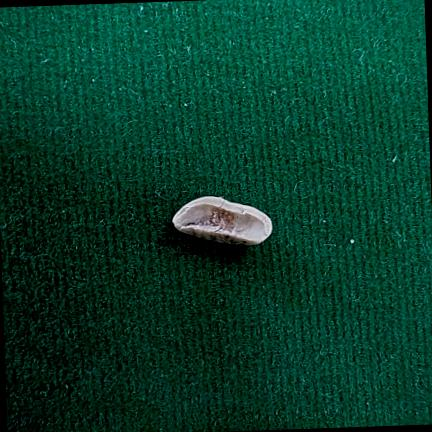shell: (172, 197, 272, 245)
